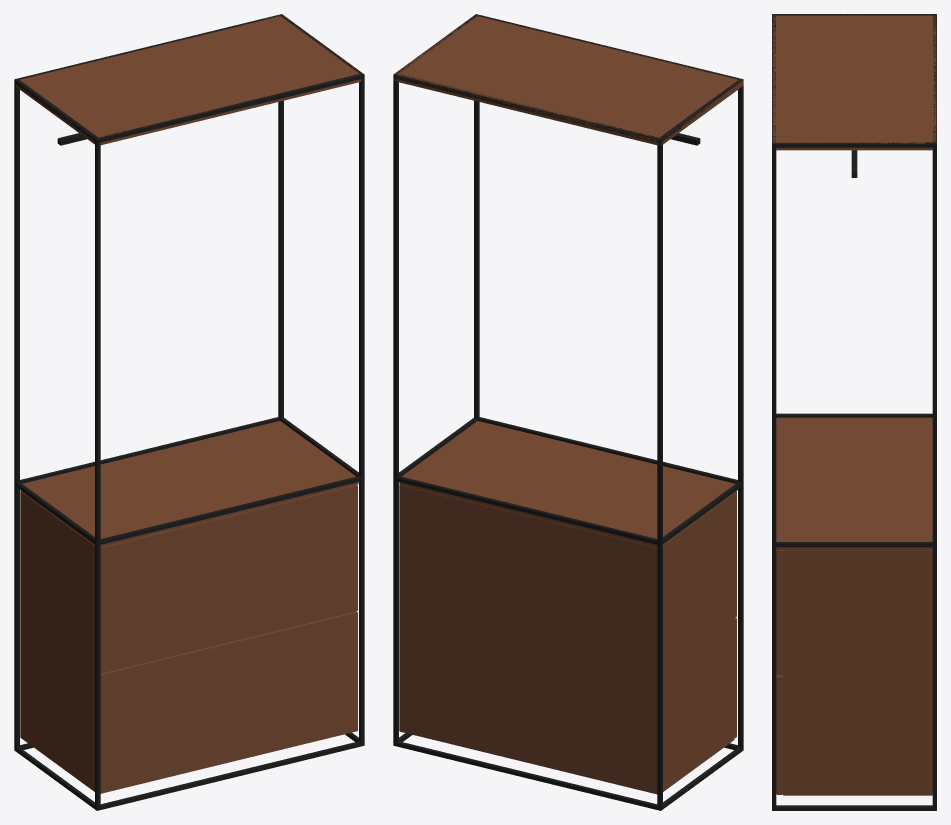
Rendered from model-drawer.glb.
The picture shows the model from 3 angles, left to right: view 1: azimuth 30°, elevation 25°; view 2: azimuth 150°, elevation 25°; view 3: azimuth 270°, elevation 25°; orthographic projection.
Parts seen in each view (by area): view 1: poel-modular-wardrobe; view 2: poel-modular-wardrobe; view 3: poel-modular-wardrobe.
Boxes of the visible parts, <box> form: poel-modular-wardrobe: <box>14,14,364,810</box>; poel-modular-wardrobe: <box>393,14,743,810</box>; poel-modular-wardrobe: <box>772,14,936,810</box>.
Bounding box in the file's own units: 0.84 × 2.01 × 0.45.
